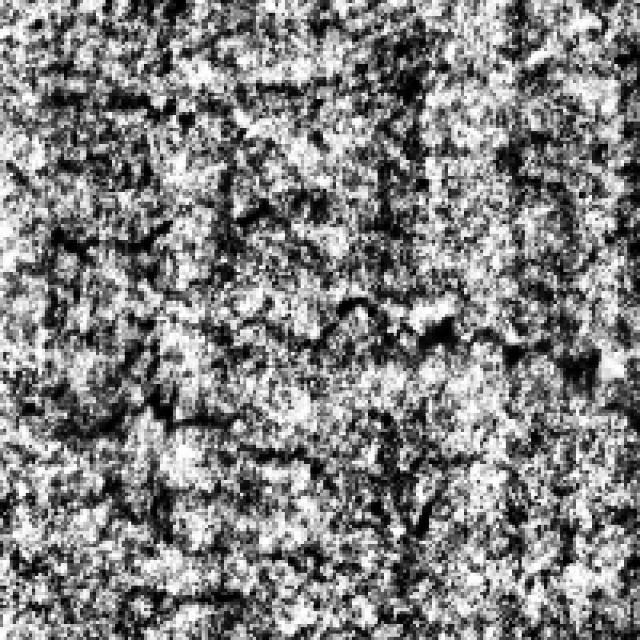Pitted_Surface: (138, 380, 566, 550), (182, 260, 621, 422), (0, 204, 237, 438), (19, 458, 250, 598)
